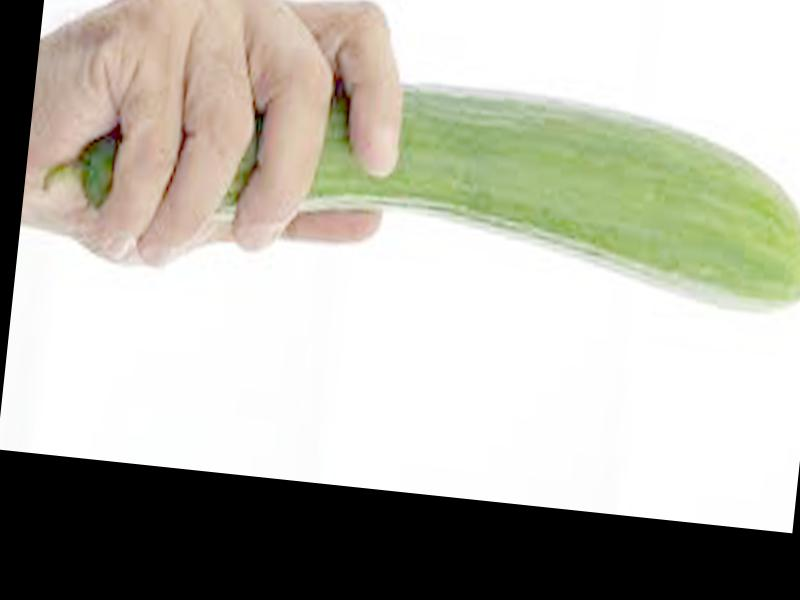Cucumber: (40, 47, 800, 322)
